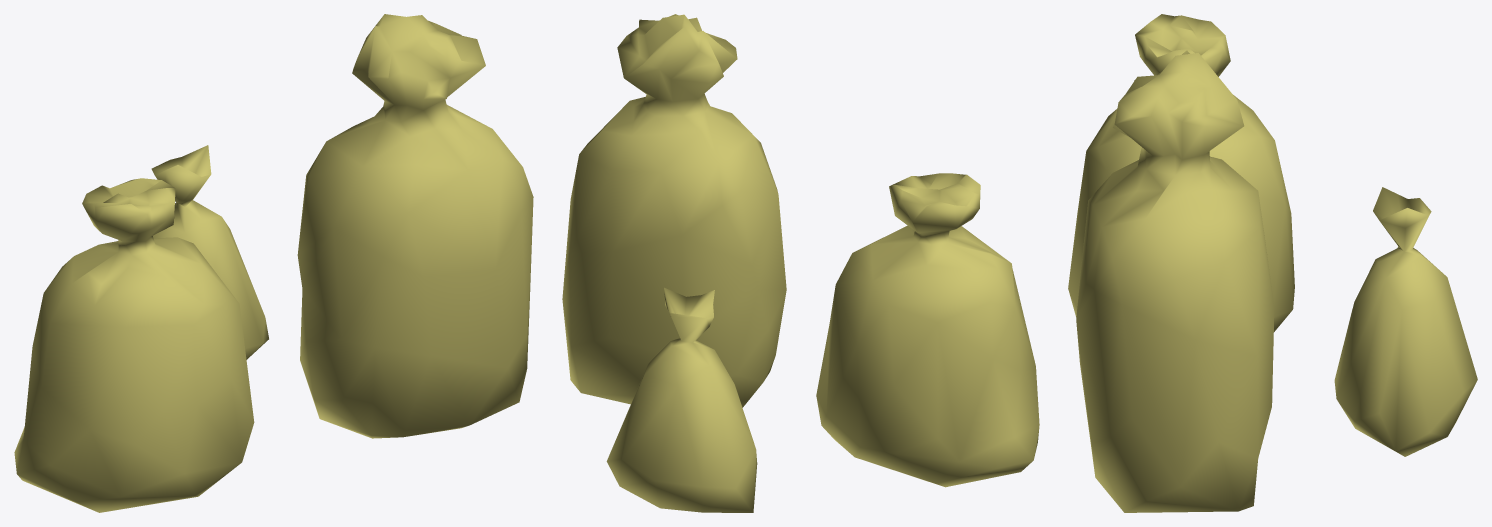
The model's file is CashBag.fbx.
The picture shows the model from 3 angles, left to right: view 1: azimuth 30°, elevation 25°; view 2: azimuth 150°, elevation 25°; view 3: azimuth 270°, elevation 25°; orthographic projection. The views are drawn at different scales.
Parts seen in each view (by area): view 1: Money_Sack_B3; view 2: Money_Sack_B3; view 3: Money_Sack_B3.
Part boxes in pixels (bbox=[...]): Money_Sack_B3: bbox=[14, 14, 533, 512]; Money_Sack_B3: bbox=[562, 14, 1039, 512]; Money_Sack_B3: bbox=[1068, 14, 1477, 512].
Size of the model in its own units: 684 by 540 by 467.
